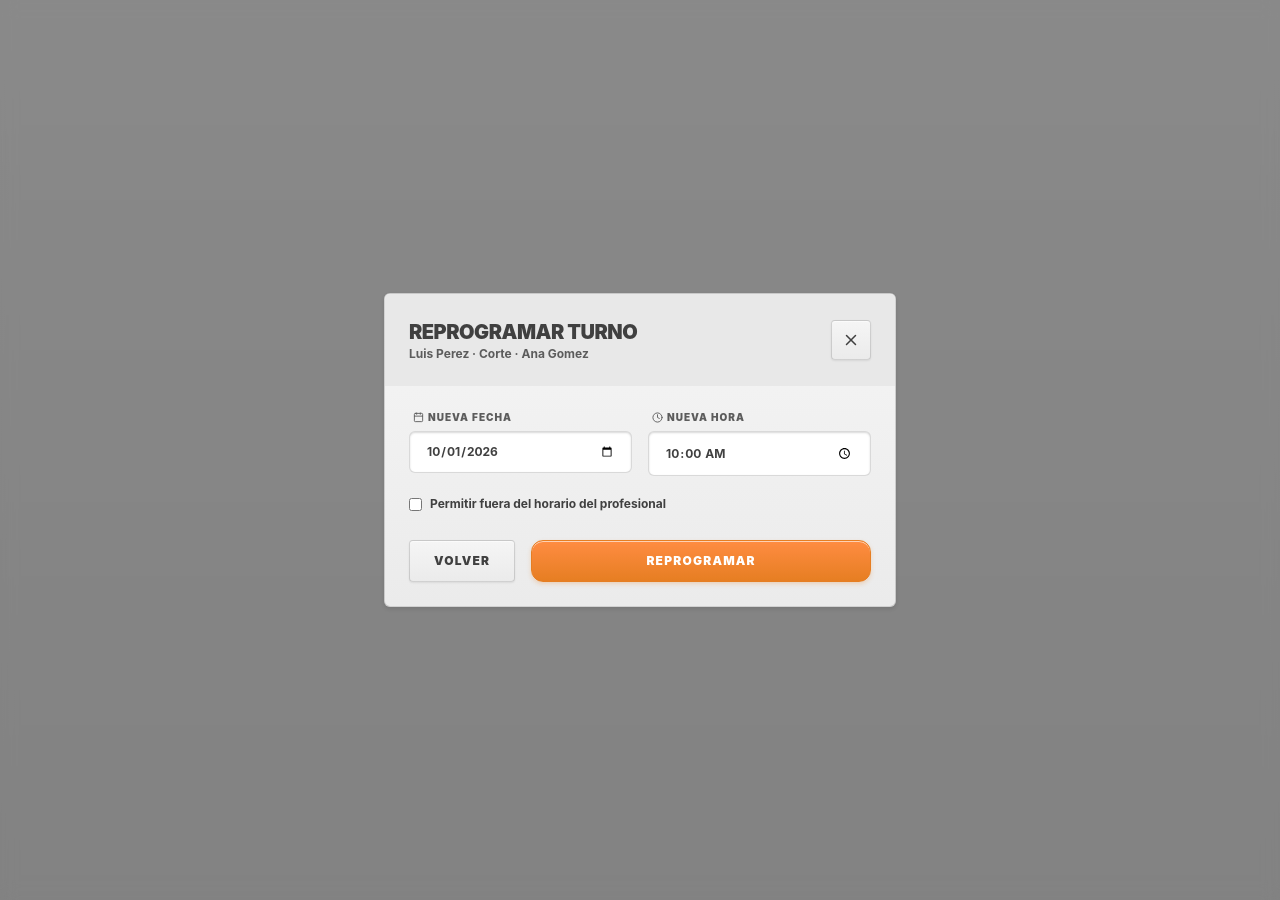
RescheduleAppointmentDialog (FF-31) › OUT_OF_SCHEDULE al administrador le dice como moverlo igual
Click the button "Reprogramar": (701, 561) 531,540 -> 871,582
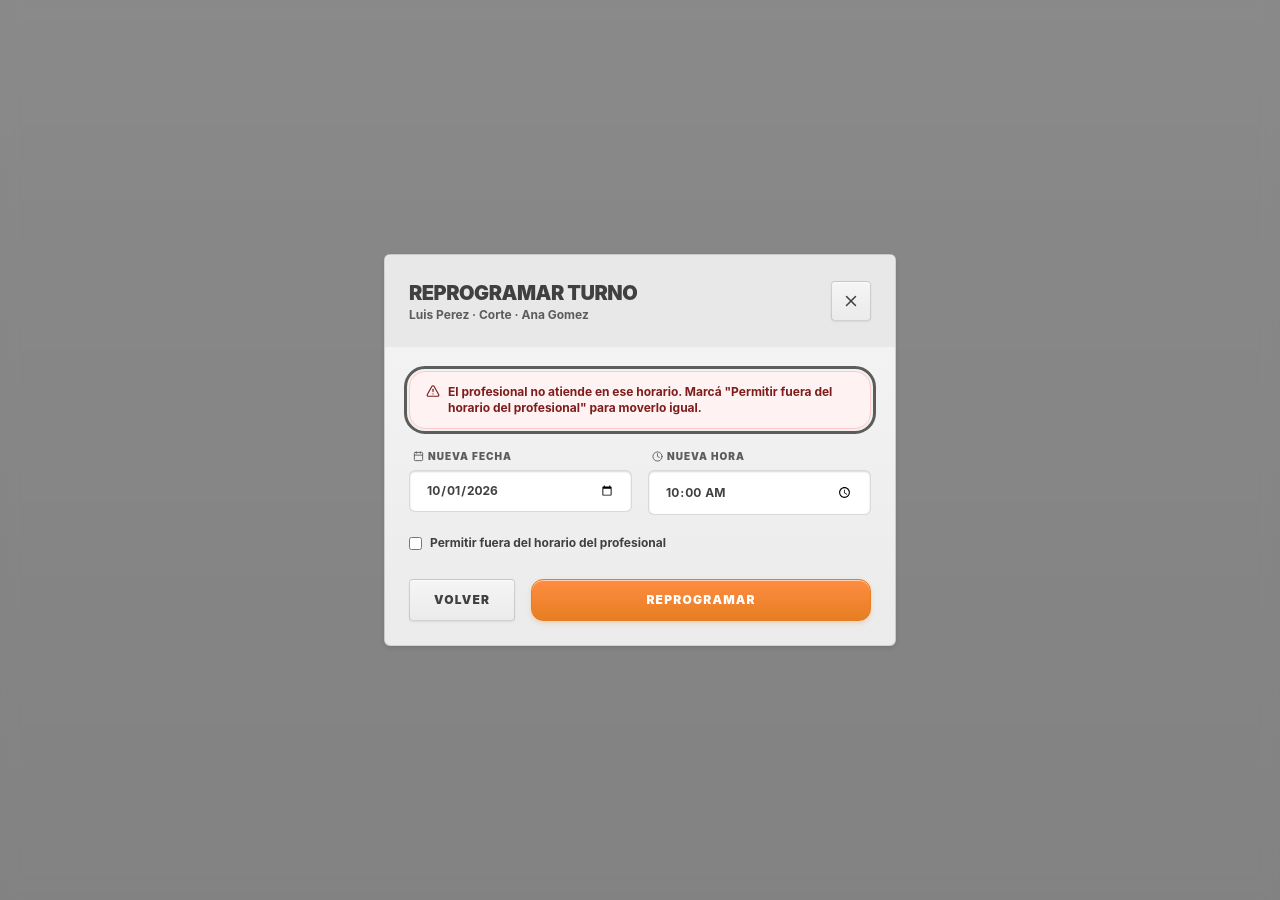
Result: the message shows "El profesional no atiende en ese horario. Marcá \"Permitir fuera del horario del profesional\" para moverlo igual." at 448,384 -> 832,415
